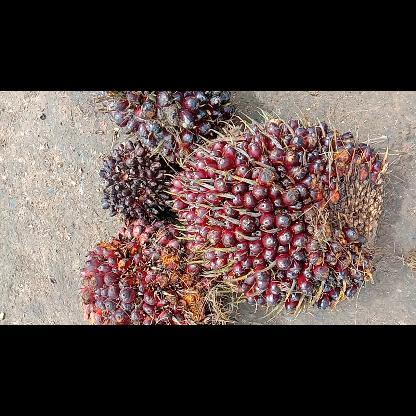Kurang masak: (166, 116, 384, 312), (94, 91, 235, 161)
TBS abnormal: (98, 138, 184, 223)
TBS masak: (77, 220, 211, 324)
